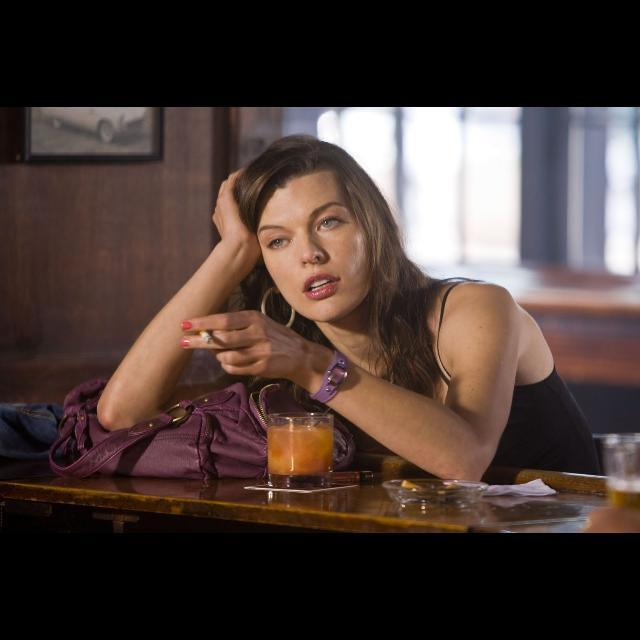rokok: (196, 328, 212, 340)
